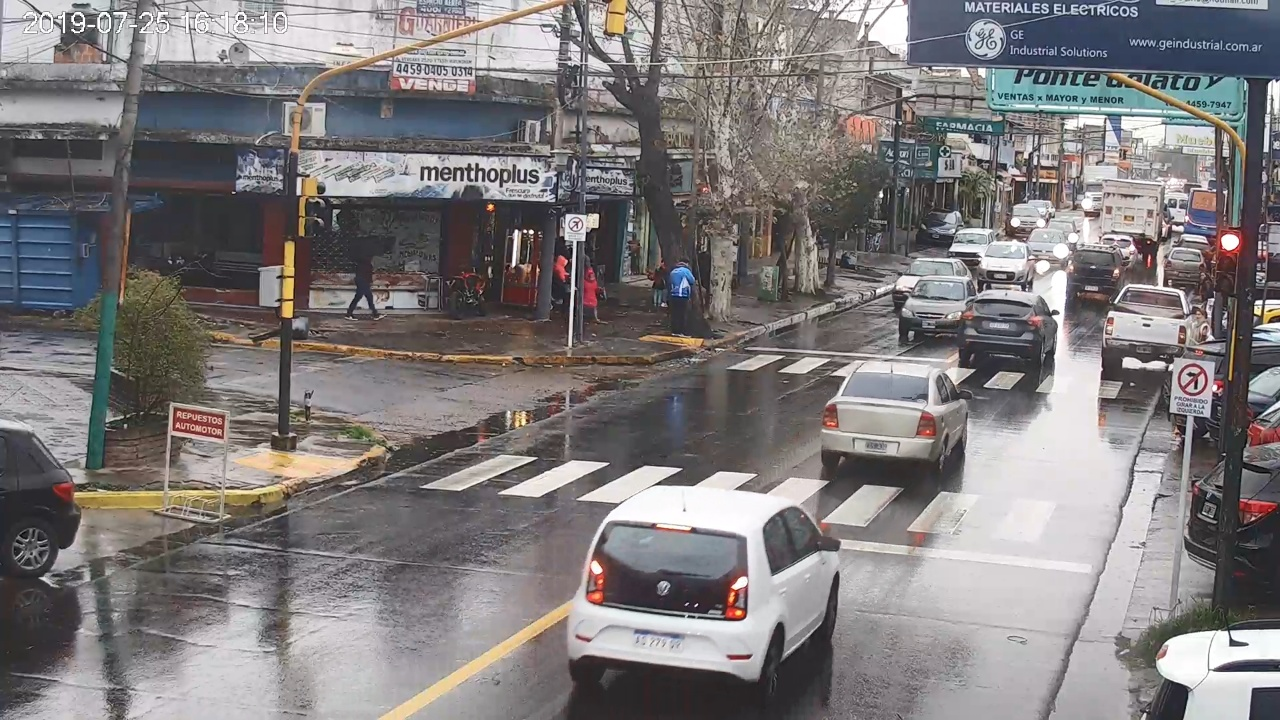car: (566, 486, 841, 696), (821, 360, 972, 471), (957, 290, 1060, 364)
traffic light: (1218, 229, 1239, 292)
